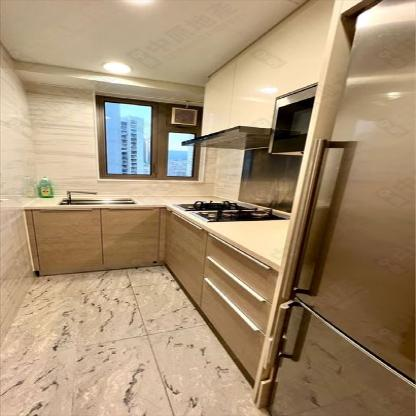Cupboard: (24, 207, 279, 403)
Exhaust Fan: (170, 107, 194, 126)
Exhaust Hood: (180, 125, 270, 150)
Faucet: (64, 189, 97, 199)
Fridge: (261, 0, 415, 415)
Microwave: (269, 81, 317, 153)
Sink: (58, 198, 136, 205)
Stove: (175, 200, 288, 222)
